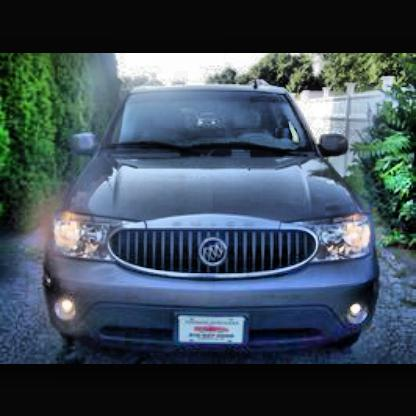Buick Rainier SUV 2007: (46, 81, 379, 353)
